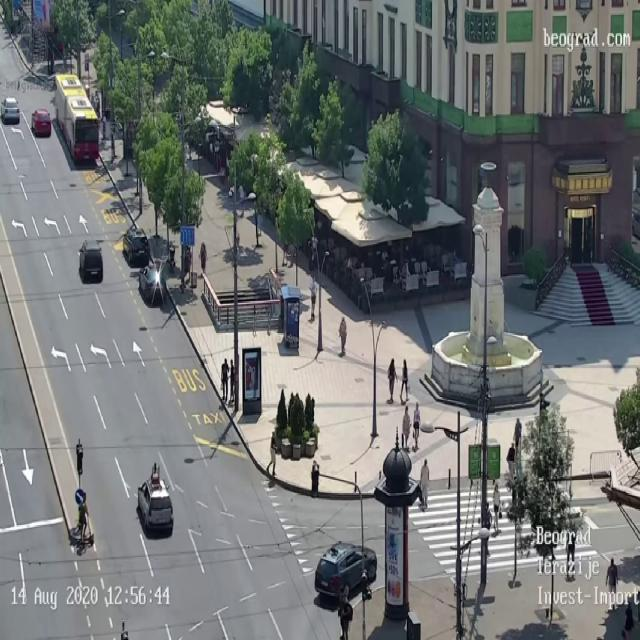bus: (54, 72, 99, 164)
car: (314, 540, 377, 600), (137, 462, 174, 534), (124, 222, 150, 265), (78, 239, 103, 283), (140, 259, 163, 299), (31, 108, 51, 137), (1, 96, 20, 124)
